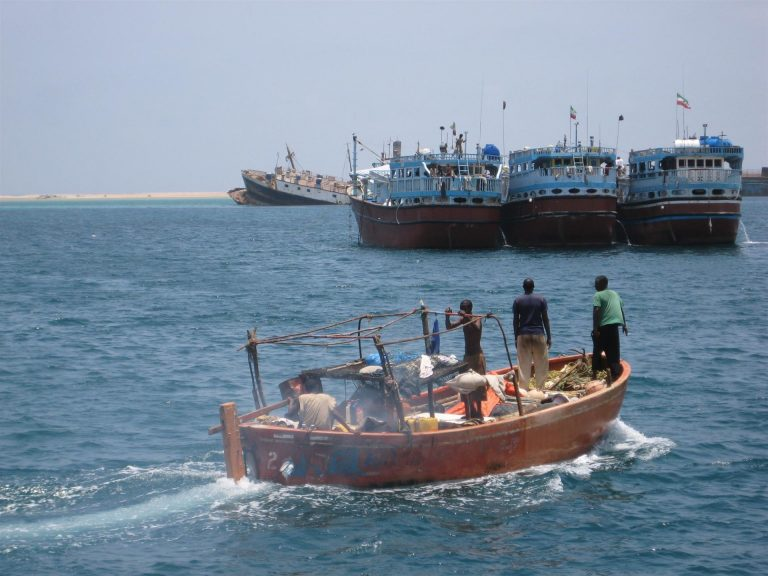Pirate boat: (207, 275, 633, 487)
